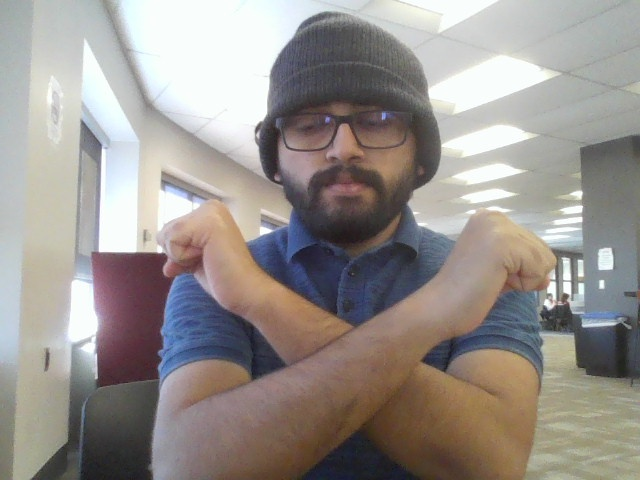start: (147, 193, 563, 474)
